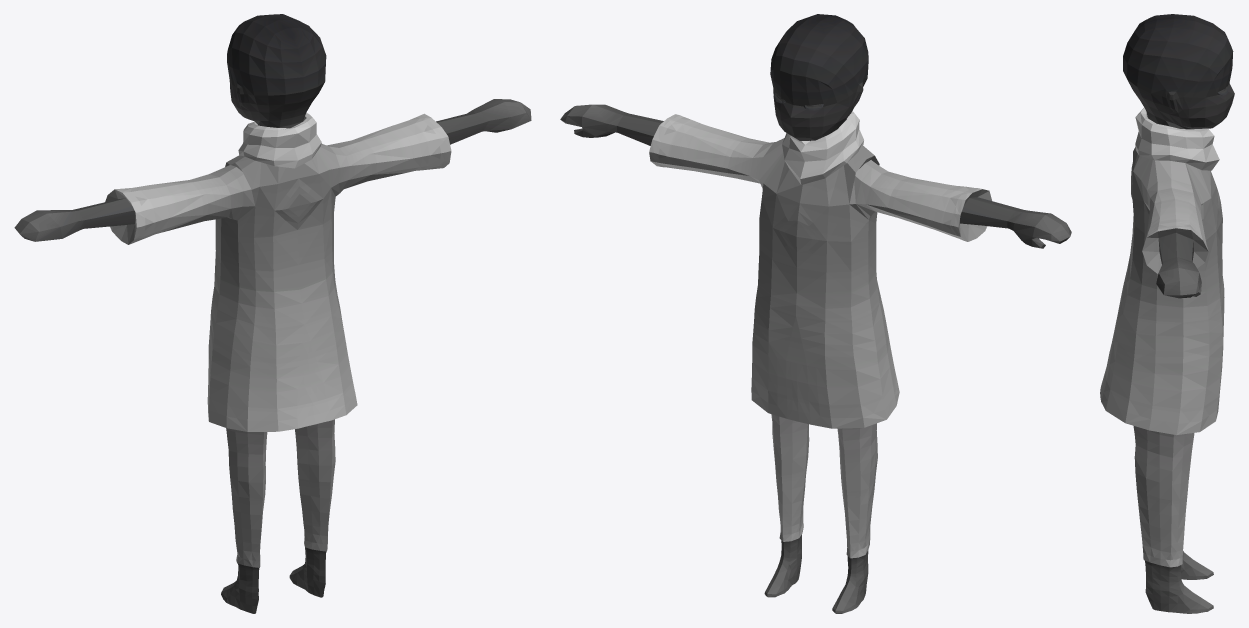
File: CharSkyKid_Body_LongSkinnyPants.glb
3 renders of one model, left to right at view 1: azimuth 30°, elevation 25°; view 2: azimuth 150°, elevation 25°; view 3: azimuth 270°, elevation 25°, orthographic.
Visible parts, largest first — view 1: CharSkyKid_Body_LongSkinnyPants; view 2: CharSkyKid_Body_LongSkinnyPants; view 3: CharSkyKid_Body_LongSkinnyPants.
Boxes of the visible parts, bbox=[...] form: CharSkyKid_Body_LongSkinnyPants: bbox=[14, 14, 531, 613]; CharSkyKid_Body_LongSkinnyPants: bbox=[560, 14, 1071, 613]; CharSkyKid_Body_LongSkinnyPants: bbox=[1100, 14, 1234, 613].
Size of the model in its own units: 13.83 by 14.94 by 3.18.
Materials: 1 (1 with a texture image).
